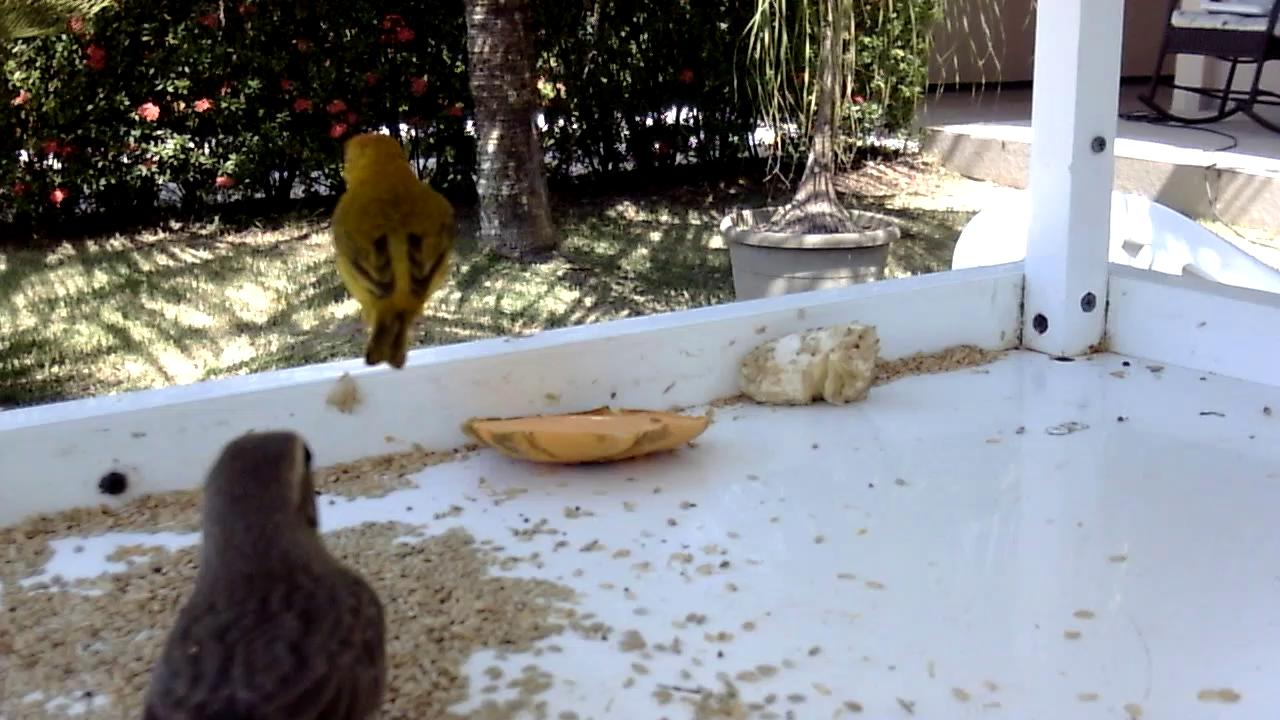canario_do_amazonas: (327, 132, 458, 375)
chupim: (142, 429, 391, 720)
